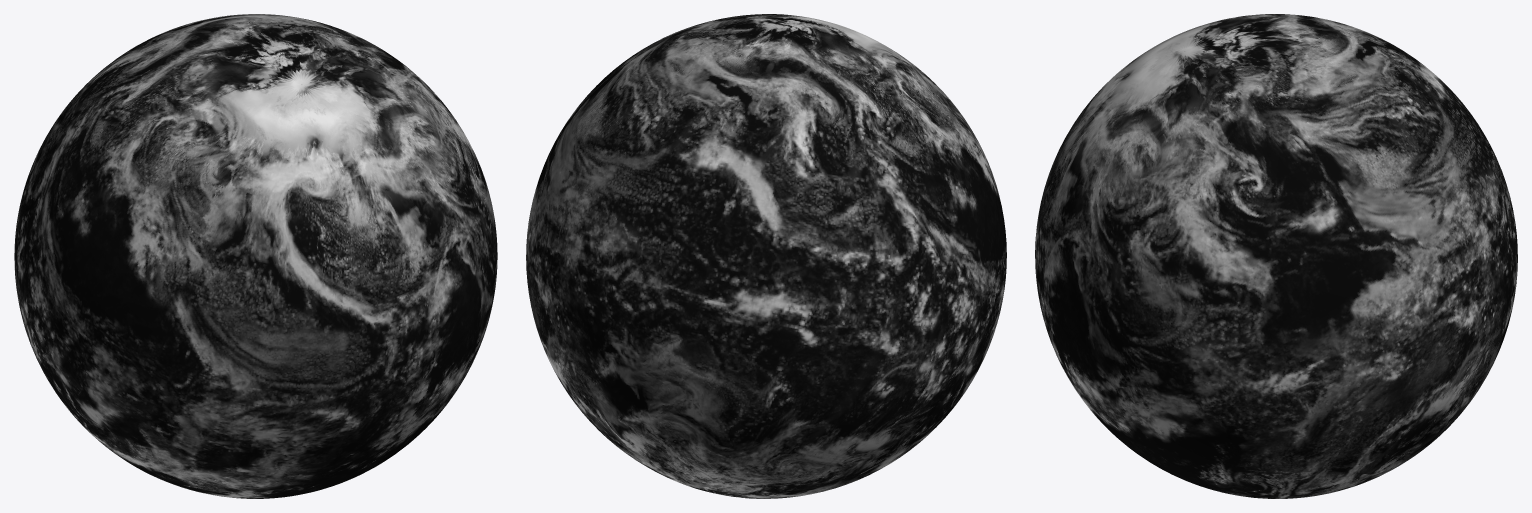
Rendered from Clouds.glb.
3 views of the same model, side by side, from view 1: azimuth 30°, elevation 25°; view 2: azimuth 150°, elevation 25°; view 3: azimuth 270°, elevation 25° (orthographic).
Visible parts, largest first — view 1: Clouds; view 2: Clouds; view 3: Clouds.
Boxes of the visible parts, x1,y1,x2,y2 form: Clouds: (14, 14, 497, 498); Clouds: (526, 14, 1006, 498); Clouds: (1035, 14, 1517, 498).
Bounding box in the file's own units: 3.24 × 3.26 × 3.24.
1 material, 1 textured.
